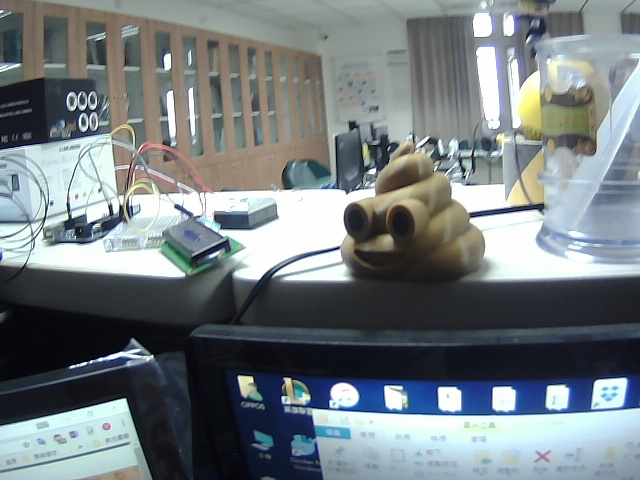shit: (330, 134, 497, 296)
